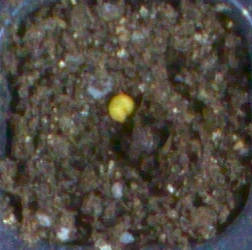chilli seed: (108, 94, 134, 122)
